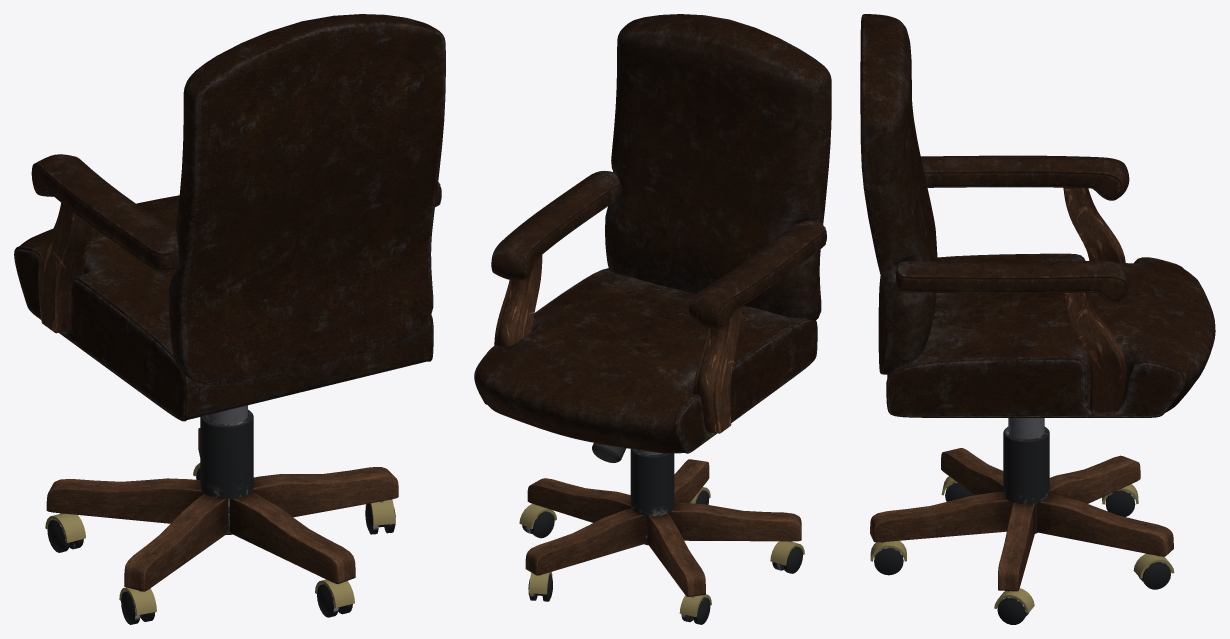
File: old_leather_office_chair.glb
The picture shows the model from 3 angles, left to right: view 1: azimuth 30°, elevation 25°; view 2: azimuth 150°, elevation 25°; view 3: azimuth 270°, elevation 25°; orthographic projection. The views are drawn at different scales.
Visible parts, largest first — view 1: Backrest, Seat_cushion, Arm_rest_right2, Leg3, Leg, Leg1, Leg4, Central_stem, Arm_rest_strut_left, Wheel_cap (×3), wheel (×2); view 2: Backrest, Seat_cushion, Arm_rest_right2, Arm_rest_right, Leg4, Leg2, Arm_rest_strut_left, Central_stem, Leg1, Leg3, Arm_rest_strut_right, Leg (+1 smaller); view 3: Seat_cushion, Backrest, Arm_rest_right, Arm_rest_right2, Leg, Leg2, Arm_rest_strut_right, Central_stem, Leg3, wheel (×4), Arm_rest_strut_left, Leg1 (+1 smaller).
Boxes of the visible parts, x1,y1,x2,y2 form: Backrest: [168, 14, 445, 384]; Seat_cushion: [14, 195, 433, 421]; Arm_rest_right2: [31, 154, 178, 272]; Leg3: [46, 478, 203, 523]; Leg: [230, 492, 355, 584]; Leg1: [252, 467, 398, 517]; Leg4: [124, 494, 227, 591]; Central_stem: [200, 405, 253, 534]; Arm_rest_strut_left: [38, 203, 94, 333]; Wheel_cap (×3): [45, 513, 354, 615]; wheel (×2): [47, 513, 352, 617]; Backrest: [605, 14, 831, 320]; Seat_cushion: [474, 268, 817, 453]; Arm_rest_right2: [688, 220, 826, 328]; Arm_rest_right: [491, 170, 621, 280]; Leg4: [668, 503, 801, 541]; Leg2: [525, 508, 645, 575]; Arm_rest_strut_left: [693, 307, 741, 433]; Central_stem: [630, 449, 674, 545]; Leg1: [527, 478, 630, 522]; Leg3: [647, 513, 705, 596]; Arm_rest_strut_right: [494, 255, 542, 346]; Leg: [674, 459, 709, 503]; Seat_cushion: [886, 253, 1215, 417]; Backrest: [860, 14, 937, 374]; Arm_rest_right: [896, 260, 1129, 302]; Arm_rest_right2: [921, 155, 1129, 200]; Leg: [870, 492, 1012, 542]; Leg2: [1037, 494, 1173, 556]; Arm_rest_strut_right: [1063, 292, 1125, 414]; Central_stem: [1003, 418, 1049, 533]; Leg3: [1049, 455, 1140, 503]; wheel (×4): [874, 490, 1170, 624]; Arm_rest_strut_left: [1063, 187, 1125, 262]; Leg1: [998, 502, 1035, 591].
Size of the model in its own units: 1.06 by 2 by 1.24.
4 materials, 4 textured.
